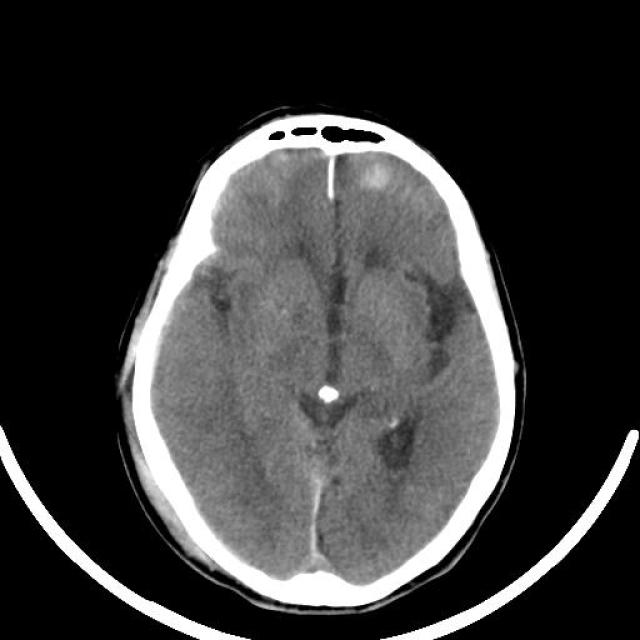Intraparenchymal: (344, 148, 416, 212)
Subdural: (129, 298, 191, 410)
